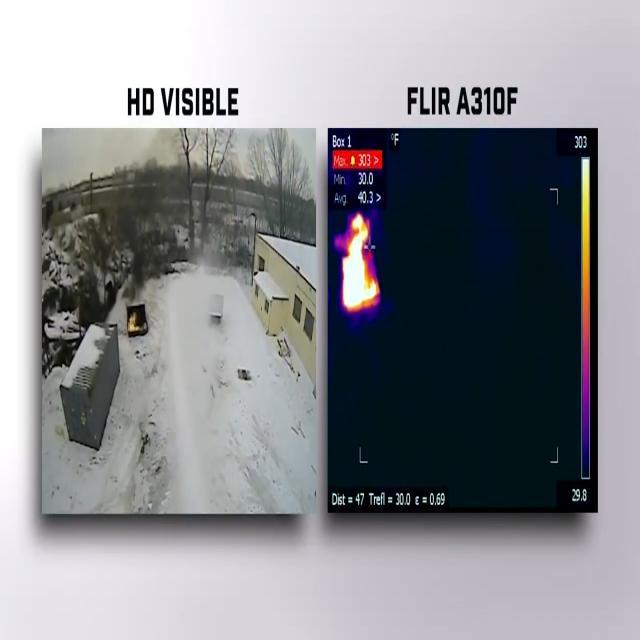fire: (339, 215, 380, 311)
